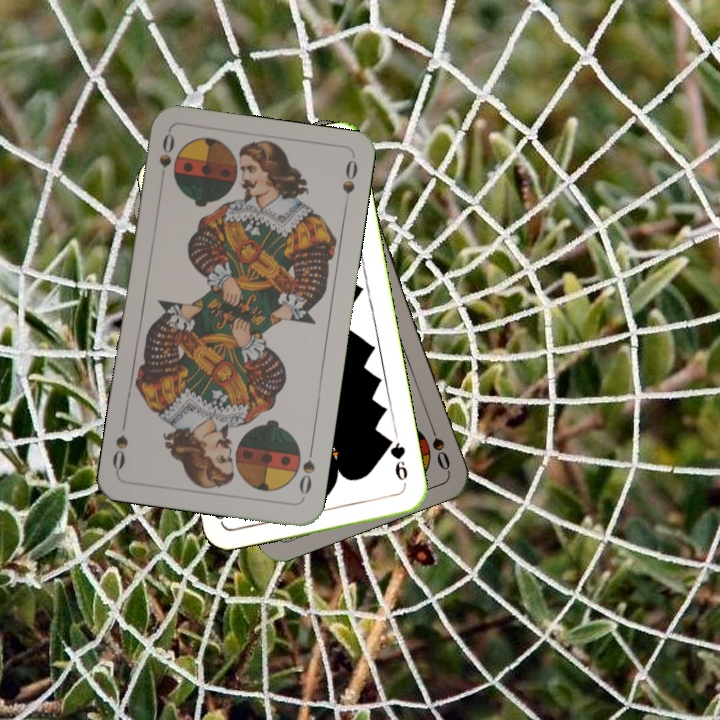G9: (382, 433, 410, 490)
SO: (424, 416, 453, 473), (295, 442, 317, 501), (155, 129, 177, 188)
